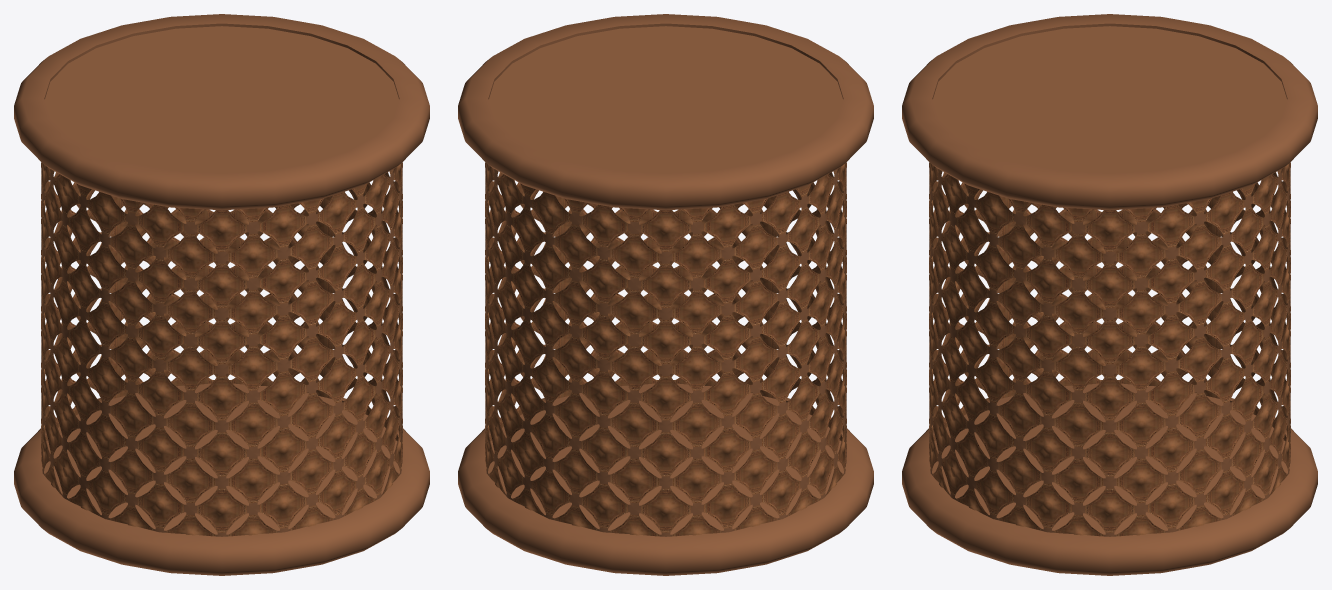
File: CarvedSideTable.dae
3 views of the same model, side by side, from view 1: azimuth 30°, elevation 25°; view 2: azimuth 150°, elevation 25°; view 3: azimuth 270°, elevation 25° (orthographic).
Parts seen in each view (by area): view 1: Table; view 2: Table; view 3: Table.
Part boxes in pixels (bbox=[...]): Table: bbox=[14, 14, 429, 575]; Table: bbox=[458, 14, 873, 575]; Table: bbox=[902, 14, 1317, 575].
Size of the model in its own units: 0.434 by 0.4523 by 0.434.
